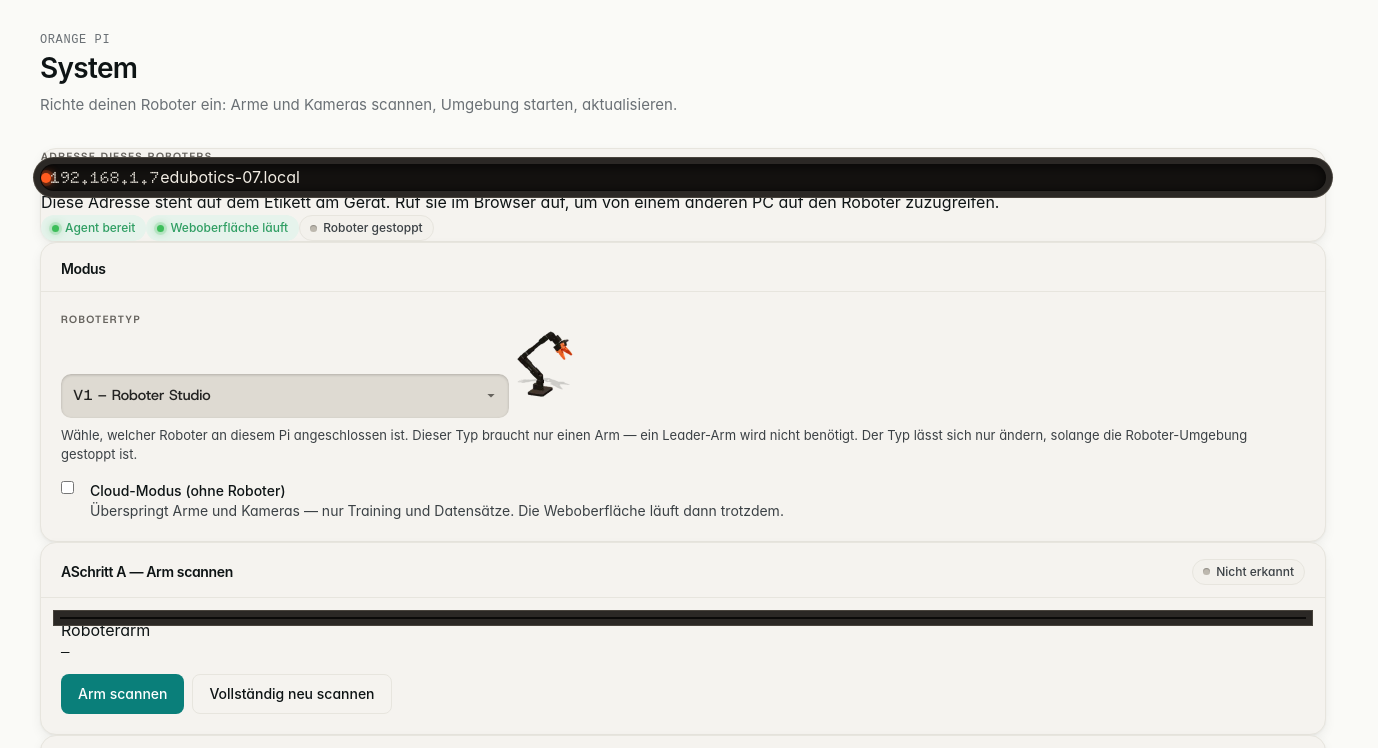
SystemPage — follower-only start gating › Cloud-Modus starts regardless of profile or hardware
The width and height of the screenshot is (1378, 748).
What coordinates should you click on to do the following:
click the checkbox
I would click on:
 (68, 488)
Its box is top-left (61, 481), bottom-right (74, 494).
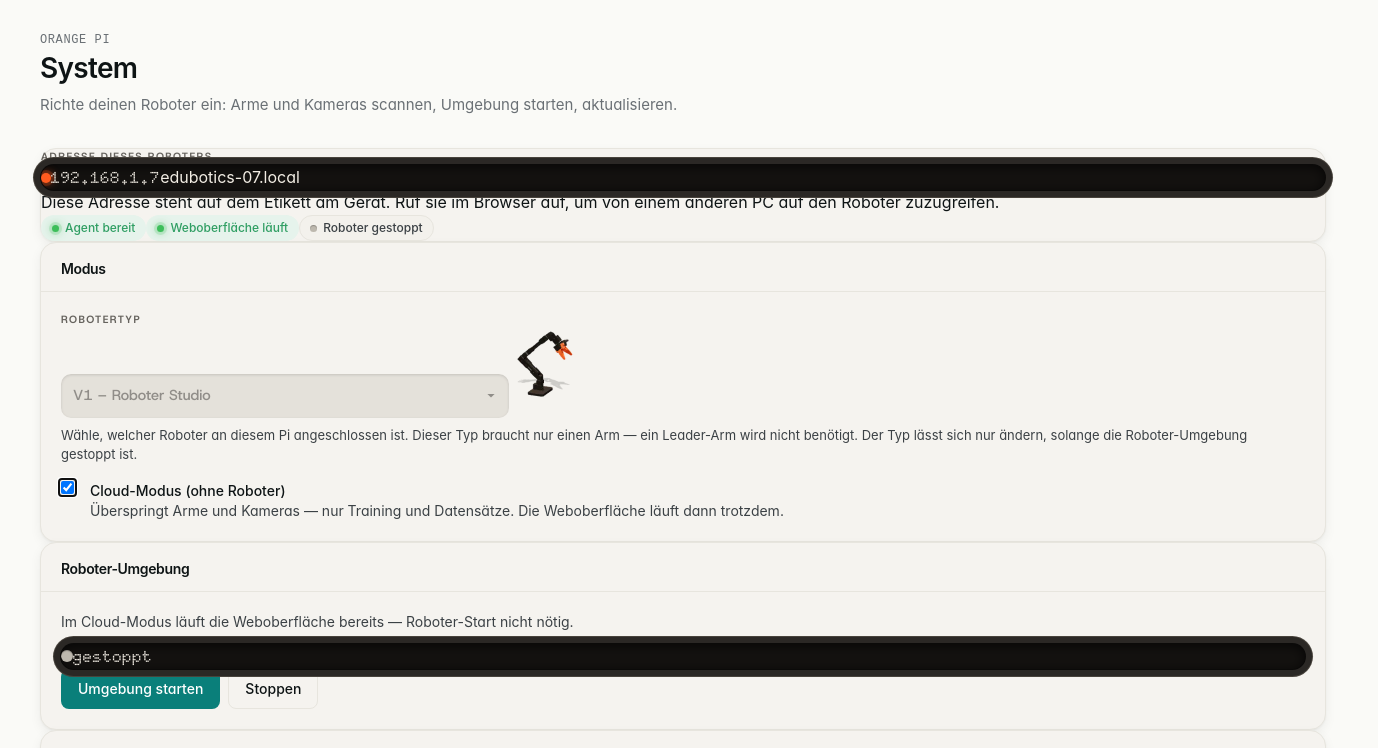
Expected: the button "Umgebung starten" is enabled, top-left (61, 669), bottom-right (220, 709)
